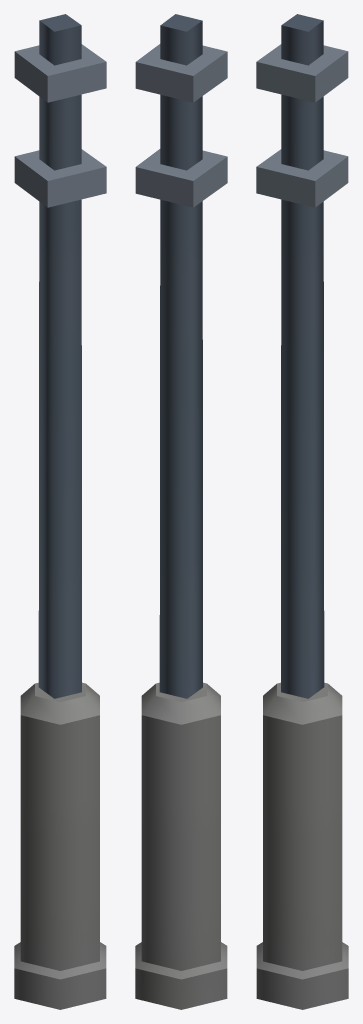
The model's file is SignHolder_3_A.fbx.
3 renders of one model, left to right at view 1: azimuth 30°, elevation 25°; view 2: azimuth 150°, elevation 25°; view 3: azimuth 330°, elevation 25°, orthographic.
Visible parts, largest first — view 1: SignHolder_3_A; view 2: SignHolder_3_A; view 3: SignHolder_3_A.
Boxes of the visible parts, box(x1,y1,x2,y2) form: SignHolder_3_A: box(14, 14, 106, 1009); SignHolder_3_A: box(135, 14, 227, 1009); SignHolder_3_A: box(256, 14, 348, 1009).
Size of the model in its own units: 28.06 by 281 by 24.3.
